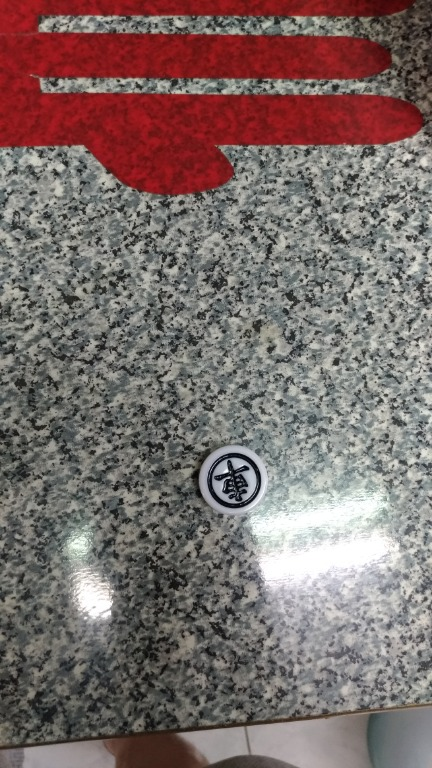b-king: (198, 447, 279, 515)
